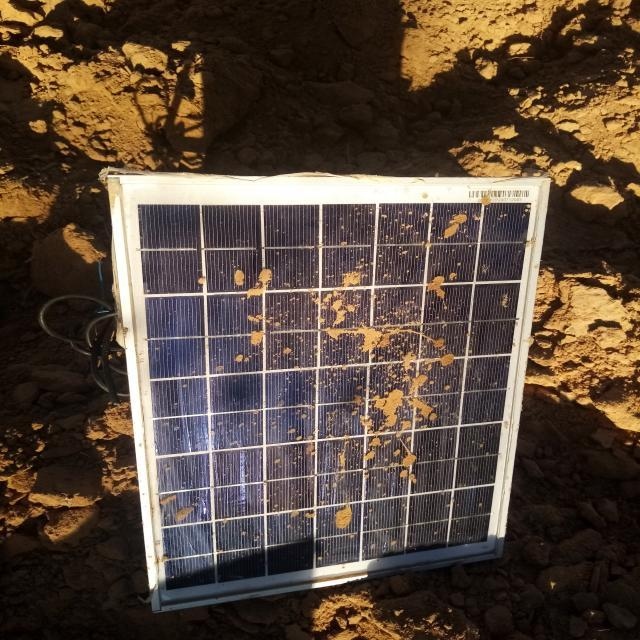faulty: (109, 175, 550, 614)
